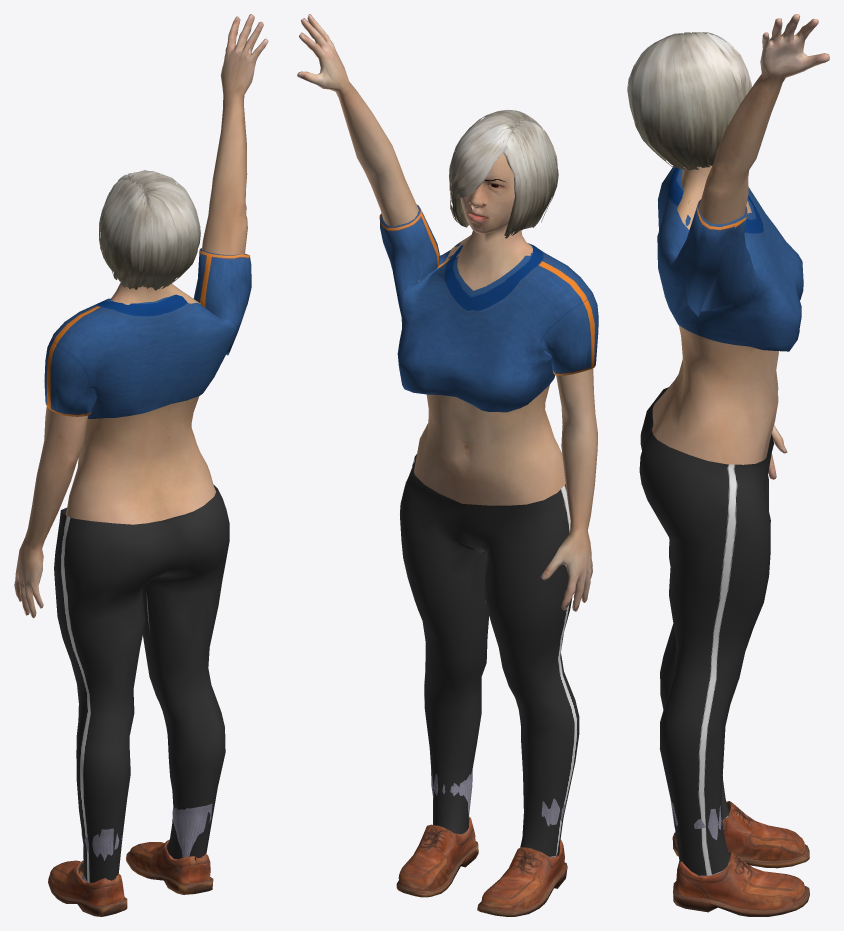
The model's file is fist_up_4.gltf.
The picture shows the model from 3 angles, left to right: view 1: azimuth 30°, elevation 25°; view 2: azimuth 150°, elevation 25°; view 3: azimuth 270°, elevation 25°; orthographic projection. The views are drawn at different scales.
Parts seen in each view (by area): view 1: fist_up; view 2: fist_up; view 3: fist_up.
Part boxes in pixels (x1,y1,x2,y2): fist_up: [14, 14, 268, 916]; fist_up: [297, 14, 598, 916]; fist_up: [627, 14, 829, 916].
Bounding box in the file's own units: 0.5238 × 1.6 × 0.3102.
6 materials, 6 textured.
